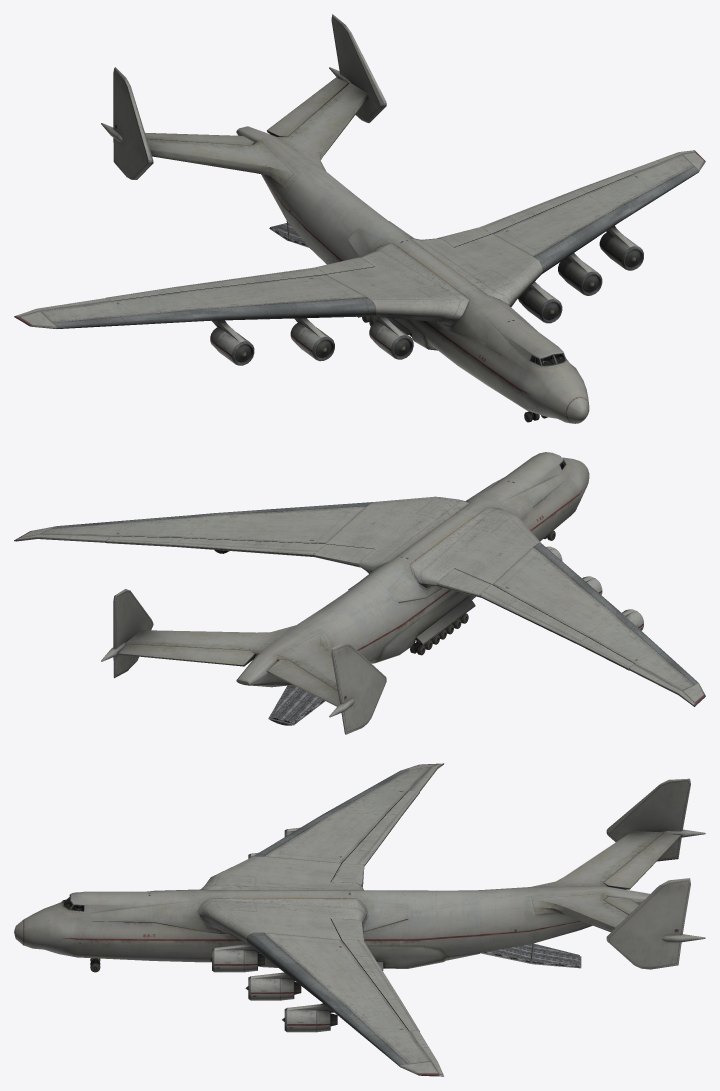
File: Antonov.glb
3 renders of one model, top to bottom at view 1: azimuth 30°, elevation 25°; view 2: azimuth 150°, elevation 25°; view 3: azimuth 270°, elevation 25°, orthographic. The views are drawn at different scales.
Parts seen in each view (by area): view 1: Body; view 2: Body, Ramp; view 3: Body, Ramp.
Boxes of the visible parts, box(x1,y1,x2,y2) form: Body: box(14, 14, 705, 423); Body: box(14, 452, 705, 734); Ramp: box(268, 685, 325, 724); Body: box(14, 763, 705, 1076); Ramp: box(480, 943, 581, 968).
Size of the model in its own units: 73.79 by 15.21 by 69.1.
9 materials, 8 textured.
